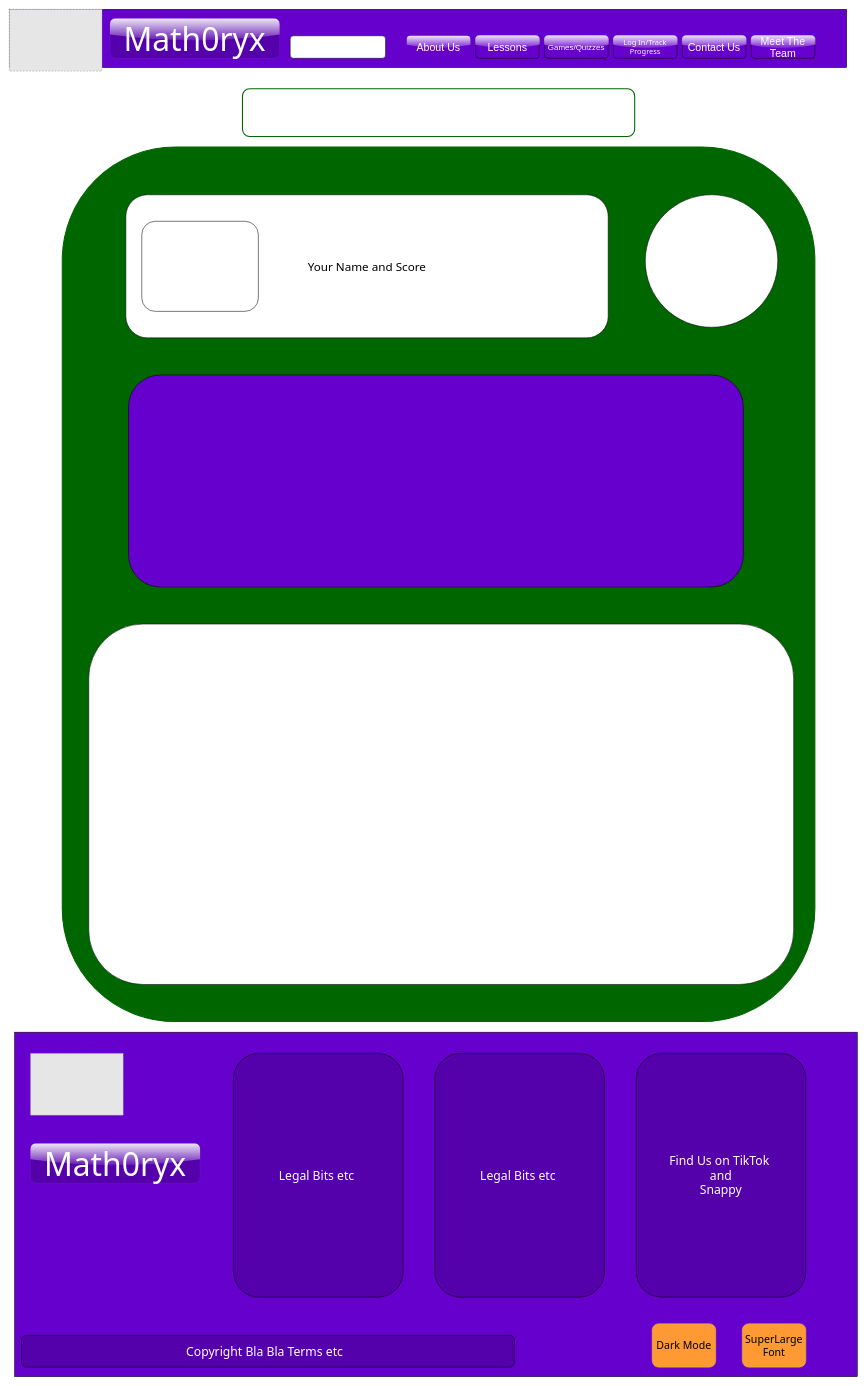
The diagram is 867 pixels wide and 1386 high, and some of its shapes have lost their labels. Grey dashed boxes stand in for pictures. Each missing label, with the box of its shape:
Analysis Progress Graphs Compare to Best Worst Streak etc: (128, 374, 743, 587)
List of other peoples score/ table: (88, 624, 794, 984)
Picture of something celebrational: (141, 221, 258, 311)
Search Bar: (290, 35, 386, 58)
Track Your Progress: (242, 88, 635, 137)
Your Avatar: (645, 194, 778, 327)
